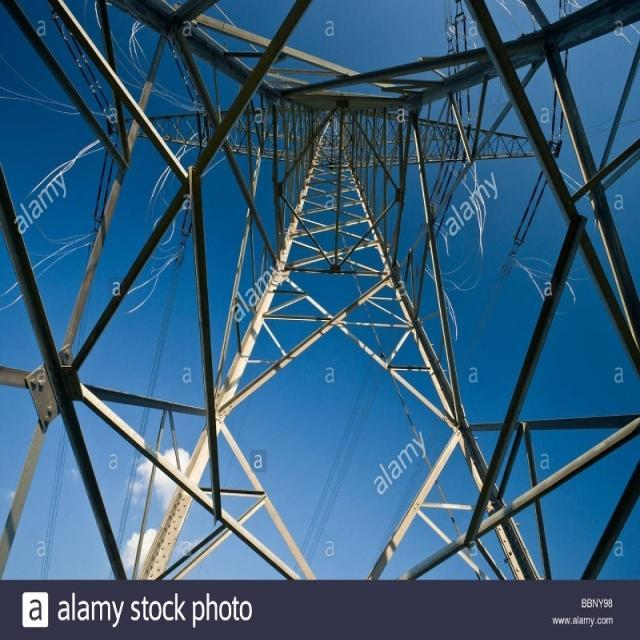non-critical vegetation: (9, 7, 634, 580)
